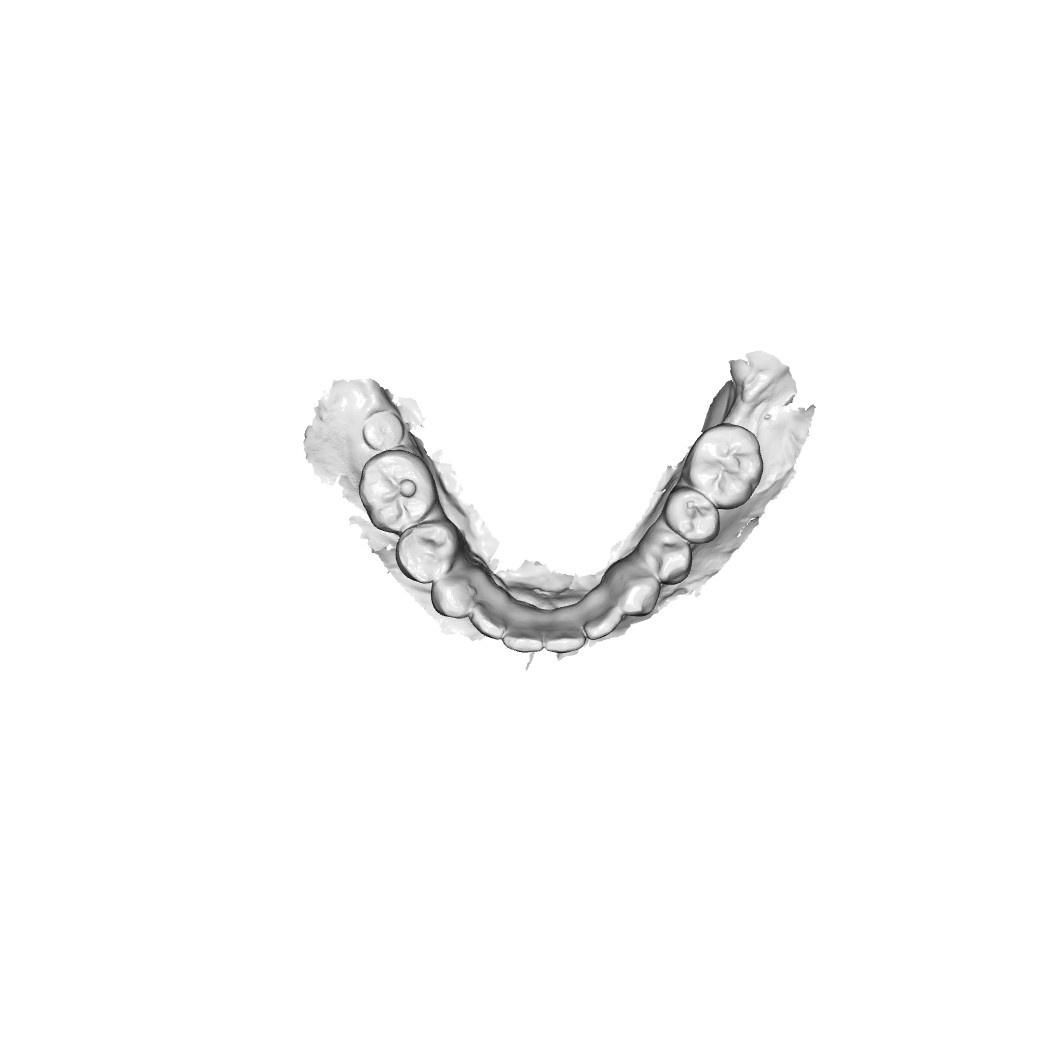canine: (611, 557, 663, 612), (432, 567, 476, 622)
incisor: (465, 596, 513, 646), (504, 606, 548, 658), (545, 610, 587, 654), (582, 594, 620, 641)
molar: (358, 450, 434, 524), (694, 429, 757, 503)
premolar: (667, 485, 725, 548), (398, 527, 457, 581), (654, 528, 696, 579)
